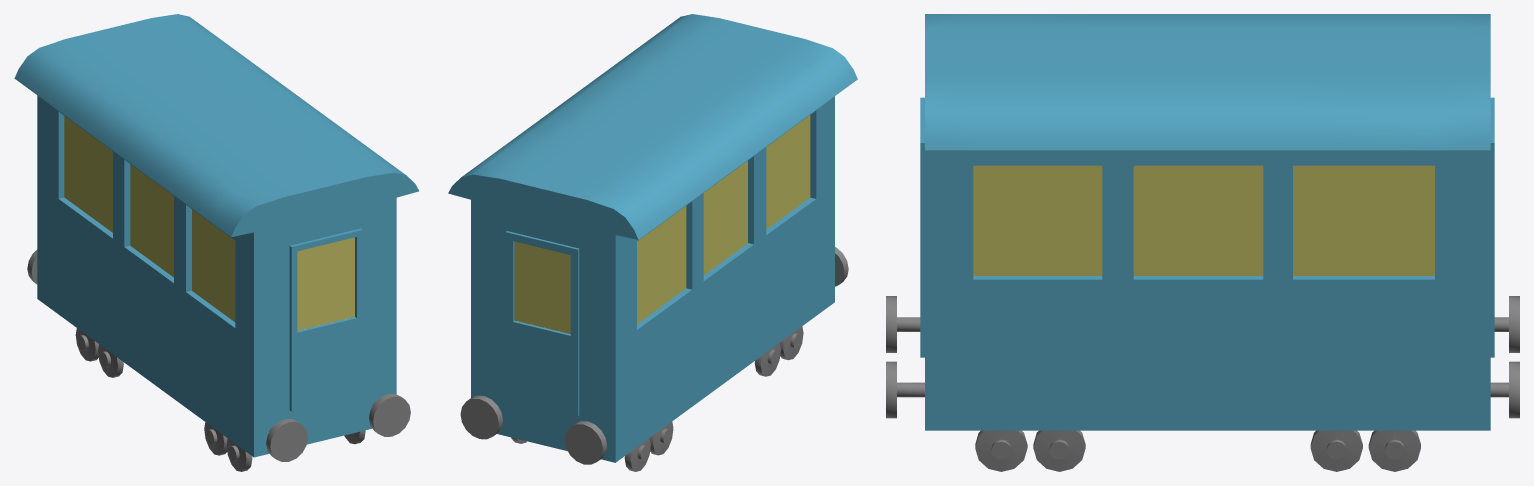
The model's file is Train-transformed.glb.
3 renders of one model, left to right at view 1: azimuth 30°, elevation 25°; view 2: azimuth 150°, elevation 25°; view 3: azimuth 270°, elevation 25°, orthographic. The views are drawn at different scales.
Parts seen in each view (by area): view 1: Train-Wagon, Train-Mat.2, Train-Wheels; view 2: Train-Wagon, Train-Mat.2, Train-Wheels; view 3: Train-Wagon, Train-Mat.2, Train-Wheels.
Boxes of the visible parts, x1,y1,x2,y2 form: Train-Wagon: (14,14,418,457); Train-Mat.2: (64,116,354,330); Train-Wheels: (27,249,410,471); Train-Wagon: (448,14,857,462); Train-Mat.2: (514,115,810,333); Train-Wheels: (460,247,848,471); Train-Wagon: (920,14,1494,430); Train-Mat.2: (973,165,1434,275); Train-Wheels: (886,296,1519,471).
Size of the model in its own units: 0.8068 by 1.19 by 1.8.
